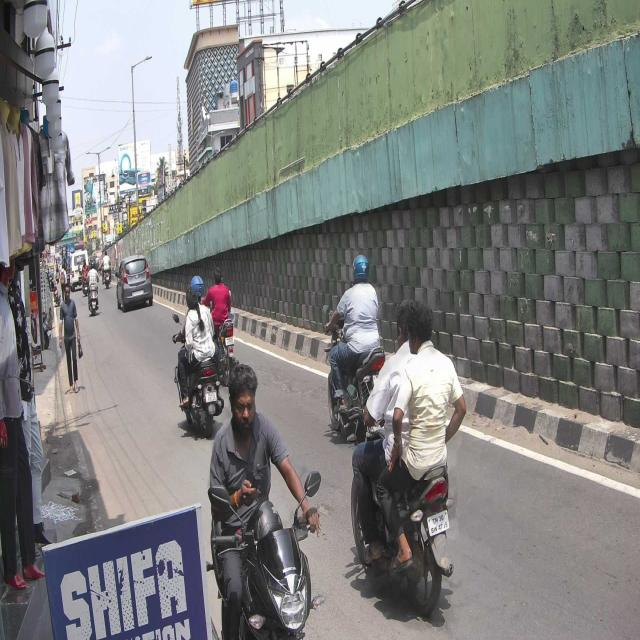double_rider: (348, 297, 466, 618)
single_rider: (206, 362, 321, 640)
